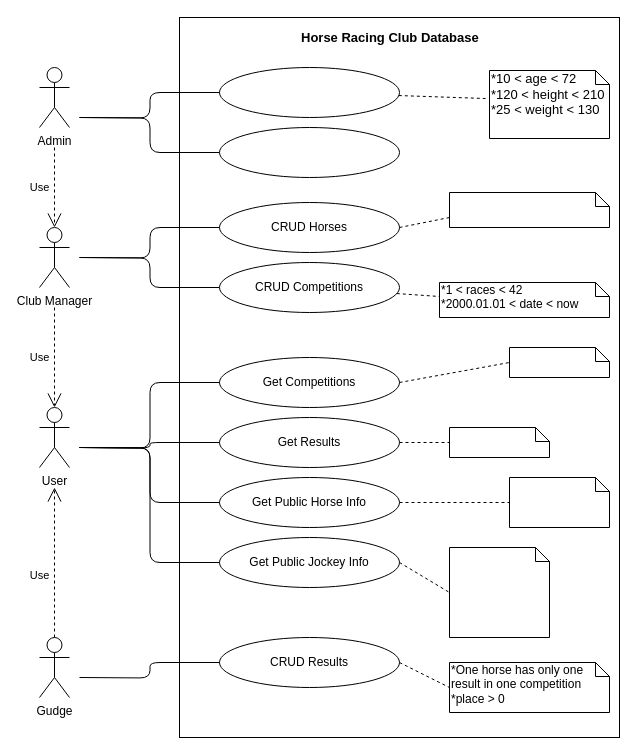
This 637x755 diagram has some shape labels left out. Here are the shapes that lost their labels. From the top down, the centre of each, then its label:
the point at 309,92: CRUD Jockeys
the point at 309,152: CRUD Owners
the point at 529,210: *0 < age < 45 *gender in ('mare', 'stallion')
the point at 559,362: By date By name
the point at 499,442: By Horse By Competition
the point at 559,502: *name *age *gender
the point at 499,592: By horse *first_name *last_name *age *height *weight
